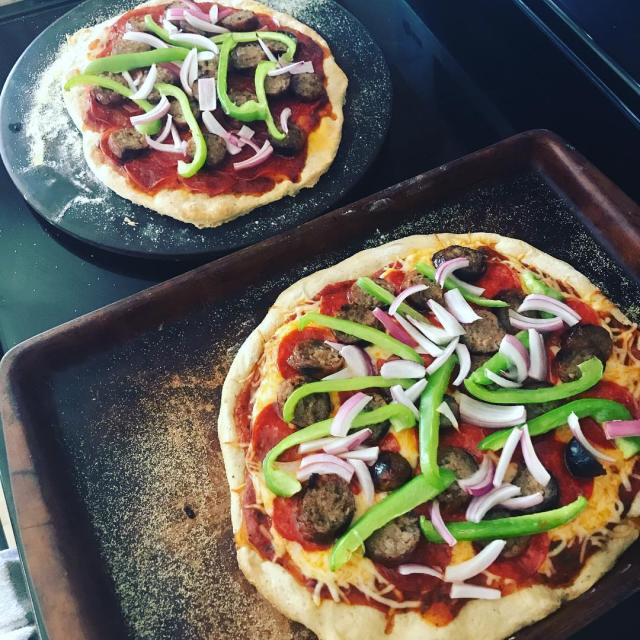pepperoni: (464, 513, 552, 583), (262, 487, 346, 554), (525, 439, 594, 507), (272, 327, 341, 387), (245, 398, 302, 469), (227, 140, 300, 182), (84, 82, 141, 128), (322, 278, 369, 328), (464, 251, 514, 298), (582, 380, 640, 419), (120, 152, 168, 194), (559, 289, 602, 325), (98, 126, 143, 160)
peppers: (262, 406, 423, 489), (326, 467, 454, 569), (474, 399, 640, 461), (294, 307, 438, 376), (419, 496, 588, 544), (420, 346, 466, 495), (281, 369, 422, 417), (156, 80, 223, 180), (62, 70, 166, 134), (464, 358, 609, 403), (218, 29, 269, 130), (352, 275, 447, 328), (418, 259, 511, 309), (250, 50, 294, 139), (200, 20, 298, 56), (520, 265, 574, 320), (75, 46, 196, 69)
pizza: (216, 233, 640, 640), (54, 0, 351, 228)
